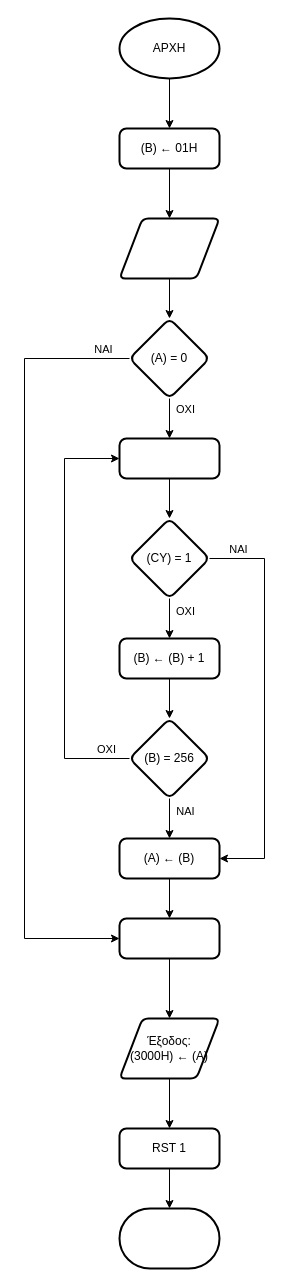
Image size: 290x1286. Some labels were removed from this diagram. The shapes that lost their labels are listed below. From the top down, each one's centre as x and y in pixels, then its label:
At point 169,248: "Είσοδος: (A) ← (2000H)".
At point 169,458: "Δεξιά ολίσθηση (Α) με κρατούμενο".
At point 169,938: "(A) ← (Ā)".
At point 169,1238: "ΤΕΛΟΣ".
